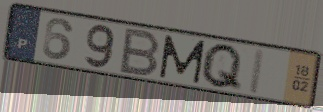6: (41, 17, 76, 62)
9: (82, 23, 117, 70)
B: (117, 26, 163, 78)
I: (245, 46, 268, 97)
M: (157, 33, 208, 86)
Q: (199, 42, 245, 94)
